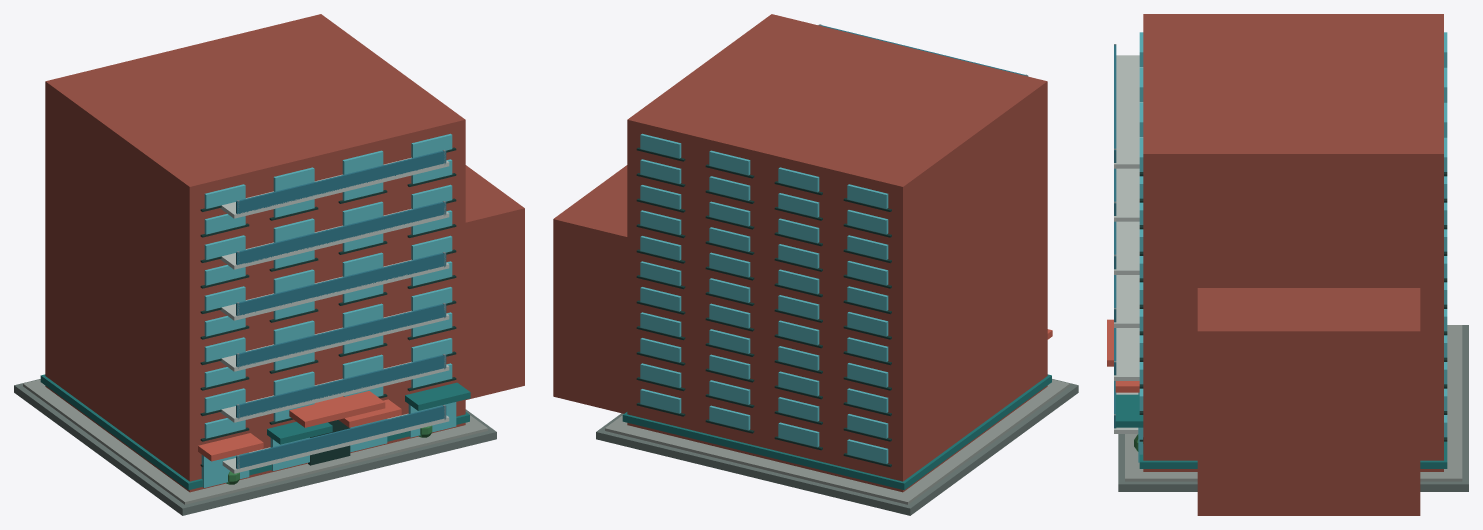
File: mixed_use_lv3.glb
3 views of the same model, side by side, from view 1: azimuth 30°, elevation 25°; view 2: azimuth 150°, elevation 25°; view 3: azimuth 270°, elevation 25° (orthographic). The views are drawn at different scales.
Visible parts, largest first — view 1: rough, glossy; view 2: rough, glossy; view 3: rough, glossy.
Part boxes in pixels (x1=…): rough: x1=14, y1=14, x2=524, y2=515; glossy: x1=201, y1=133, x2=456, y2=487; rough: x1=553, y1=14, x2=1078, y2=515; glossy: x1=640, y1=25, x2=1028, y2=463; rough: x1=1107, y1=14, x2=1468, y2=515; glossy: x1=1114, y1=32, x2=1447, y2=462.
Bounding box in the file's own units: 11.87 × 9.4 × 9.39.
